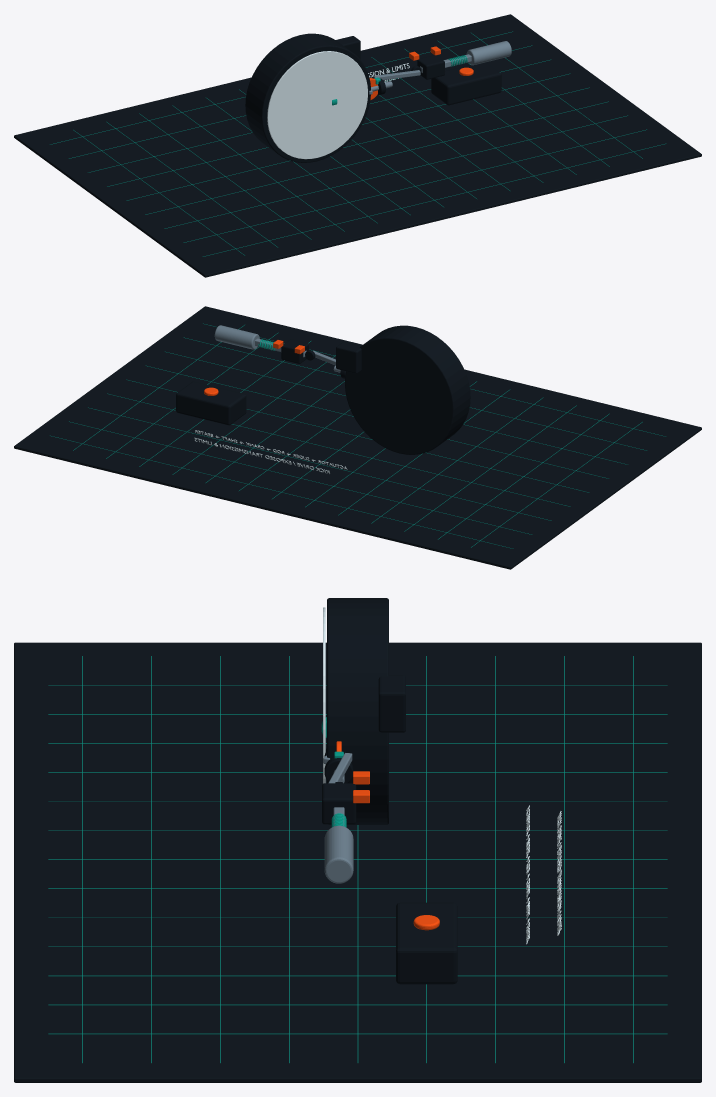
Rendered from kick_drive_mechanical_v2.obj.
3 renders of one model, top to bottom at view 1: azimuth 30°, elevation 25°; view 2: azimuth 150°, elevation 25°; view 3: azimuth 270°, elevation 25°, orthographic. The views are drawn at different scales.
Parts seen in each view (by area): view 1: Floor, Drum_head, Drum_shell, Controller_bay, Actuator_body, Slider_carriage, Grid.013, Grid.014, Grid.016, Grid.015; view 2: Floor, Drum_shell, Controller_bay, Hoop_clamp, Actuator_body, Slider_carriage, Grid.020, Grid.021, Grid.019; view 3: Floor, Drum_shell, Controller_bay, Hoop_clamp, Actuator_body, Grid.011, Grid.012, Slider_carriage, Grid.010.
Part boxes in pixels (bbox=[...]): Floor: bbox=[14, 14, 701, 277]; Drum_head: bbox=[267, 51, 367, 159]; Drum_shell: bbox=[245, 33, 370, 162]; Controller_bay: bbox=[431, 62, 501, 105]; Actuator_body: bbox=[466, 41, 511, 65]; Slider_carriage: bbox=[417, 55, 444, 79]; Grid.013: bbox=[202, 143, 666, 256]; Grid.014: bbox=[183, 129, 646, 242]; Grid.016: bbox=[145, 101, 608, 214]; Grid.015: bbox=[164, 115, 627, 228]; Floor: bbox=[14, 306, 701, 569]; Drum_shell: bbox=[345, 325, 470, 454]; Controller_bay: bbox=[176, 381, 246, 425]; Hoop_clamp: bbox=[336, 342, 361, 373]; Actuator_body: bbox=[214, 325, 259, 349]; Slider_carriage: bbox=[281, 339, 308, 363]; Grid.020: bbox=[69, 421, 532, 534]; Grid.021: bbox=[49, 435, 513, 548]; Grid.019: bbox=[88, 407, 551, 520]; Floor: bbox=[14, 642, 701, 1082]; Drum_shell: bbox=[327, 598, 388, 824]; Controller_bay: bbox=[396, 902, 457, 984]; Hoop_clamp: bbox=[378, 675, 405, 732]; Actuator_body: bbox=[324, 825, 353, 883]; Grid.011: bbox=[48, 1004, 667, 1005]; Grid.012: bbox=[48, 1033, 667, 1034]; Slider_carriage: bbox=[322, 783, 356, 824]; Grid.010: bbox=[48, 975, 667, 976].
Size of the model in its own units: 30 by 6.83 by 20.
